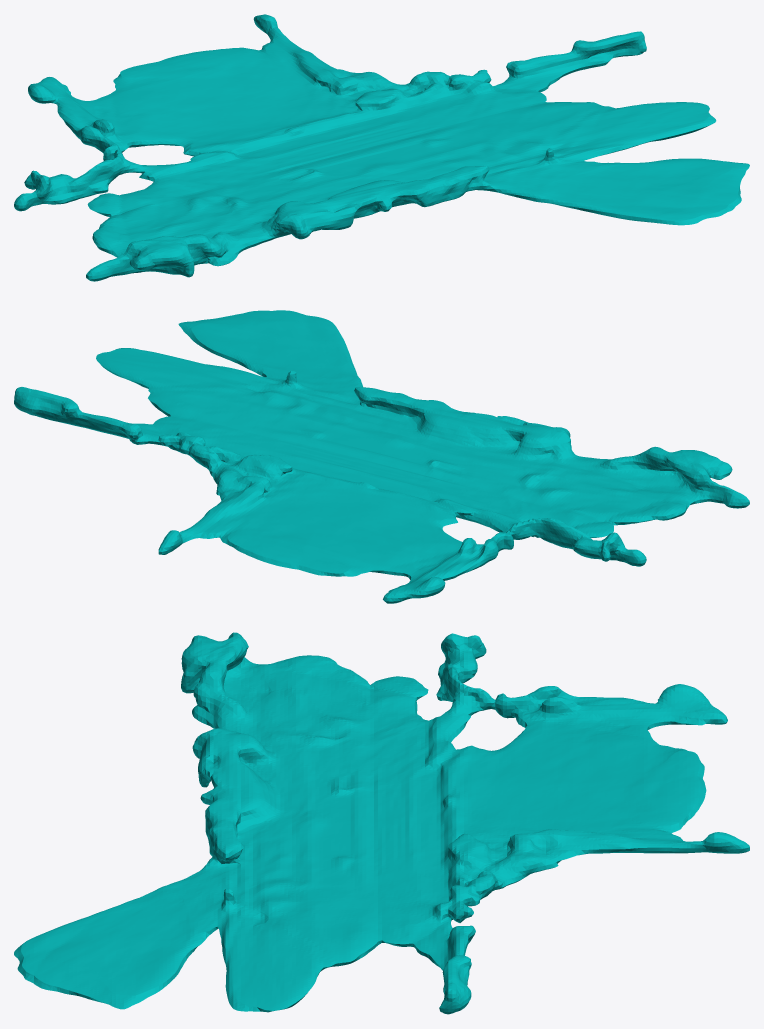
The model's file is 2_kitti.glb.
3 views of the same model, one above another, from view 1: azimuth 30°, elevation 25°; view 2: azimuth 150°, elevation 25°; view 3: azimuth 270°, elevation 25° (orthographic). The views are drawn at different scales.
Bounding box in the file's own units: 157 × 8.19 × 127.
